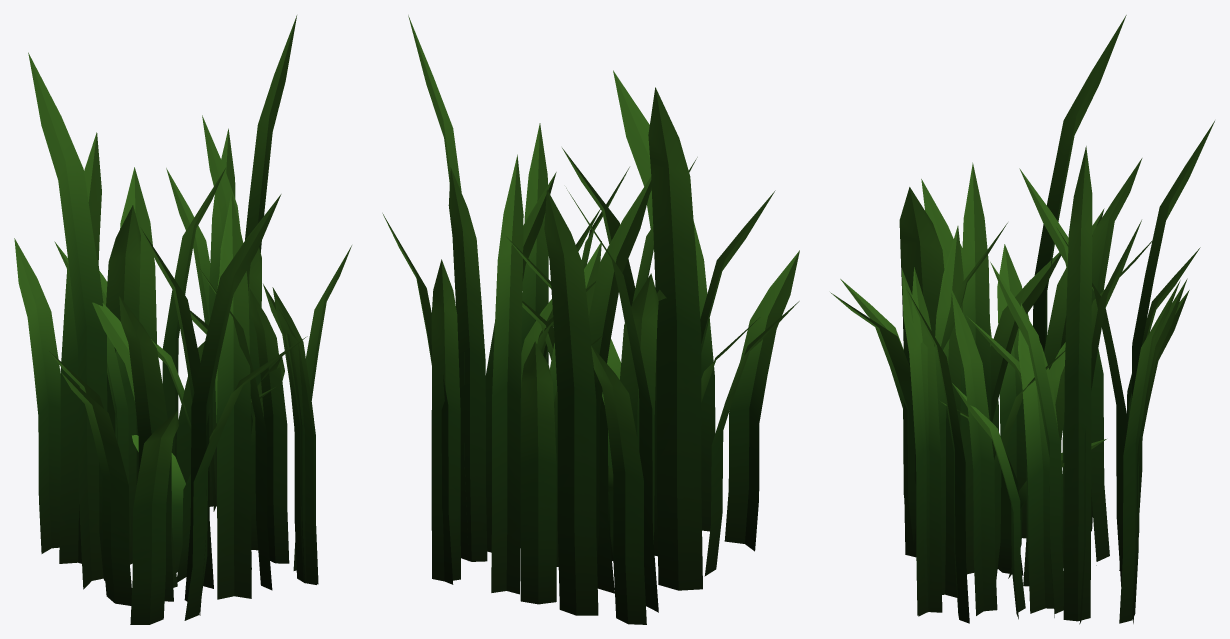
Rendered from TallGrass5.fbx.
The picture shows the model from 3 angles, left to right: view 1: azimuth 30°, elevation 25°; view 2: azimuth 150°, elevation 25°; view 3: azimuth 270°, elevation 25°; orthographic projection. The views are drawn at different scales.
Visible parts, largest first — view 1: Tall_Grass_5; view 2: Tall_Grass_5; view 3: Tall_Grass_5.
Part boxes in pixels (bbox=[...]): Tall_Grass_5: bbox=[14, 15, 351, 624]; Tall_Grass_5: bbox=[382, 15, 799, 624]; Tall_Grass_5: bbox=[830, 15, 1214, 624].
Bounding box in the file's own units: 150 × 240 × 165.
